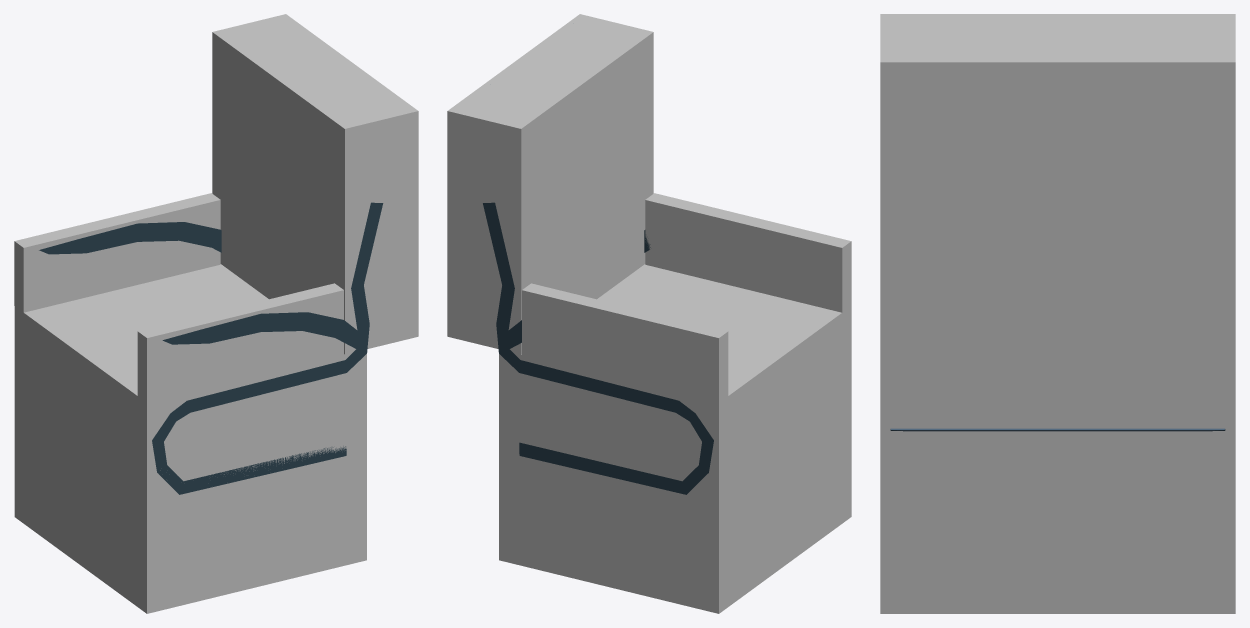
File: SM_Chairs_03.fbx
3 renders of one model, left to right at view 1: azimuth 30°, elevation 25°; view 2: azimuth 150°, elevation 25°; view 3: azimuth 270°, elevation 25°, orthographic. The views are drawn at different scales.
Visible parts, largest first — view 1: SM_Chairs_03_ConvexHulls, SM_Chairs_03; view 2: SM_Chairs_03_ConvexHulls, SM_Chairs_03; view 3: SM_Chairs_03_ConvexHulls, SM_Chairs_03.
Part boxes in pixels (x1,y1,x2,y2): SM_Chairs_03_ConvexHulls: (14,14,418,613); SM_Chairs_03: (39,202,383,494); SM_Chairs_03_ConvexHulls: (447,14,851,613); SM_Chairs_03: (483,202,713,494); SM_Chairs_03_ConvexHulls: (880,14,1235,613); SM_Chairs_03: (890,428,1225,431).
Size of the model in its own units: 89.11 by 75.38 by 137.
2 materials, 1 textured.
